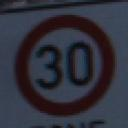speed_limit_30: (10, 11, 118, 121)
